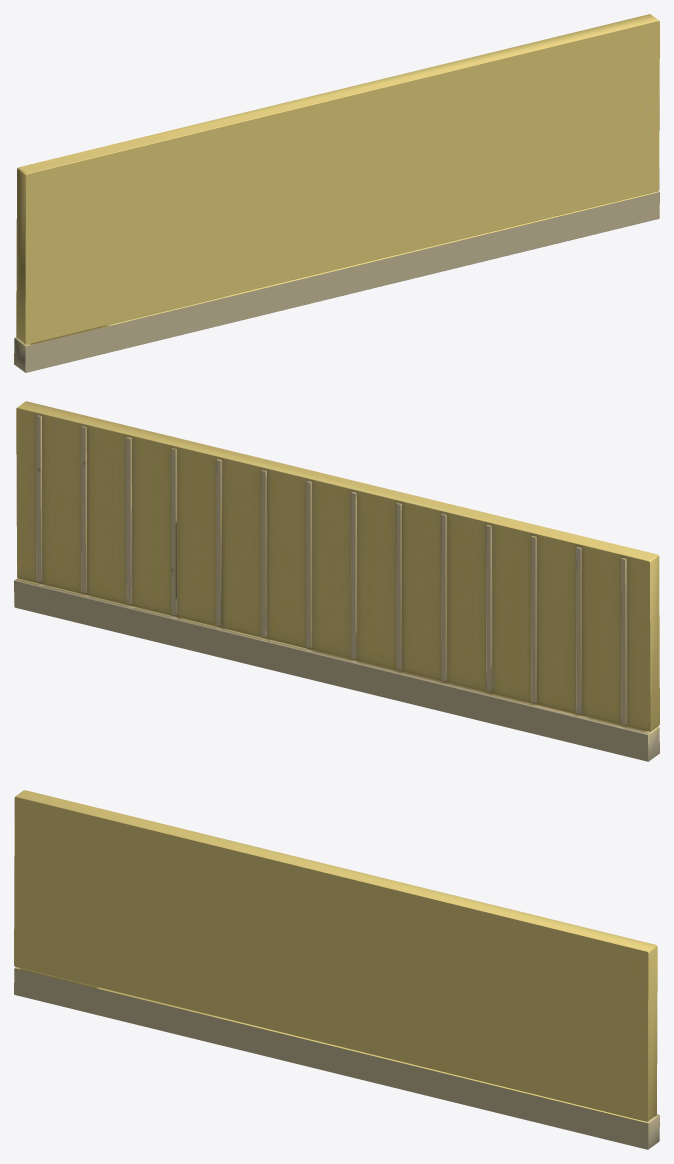
The model's file is LV_corridor_panel.glb.
3 renders of one model, top to bottom at view 1: azimuth 30°, elevation 25°; view 2: azimuth 150°, elevation 25°; view 3: azimuth 330°, elevation 25°, orthographic.
Parts seen in each view (by area): view 1: LV_corridor_panel; view 2: LV_corridor_panel; view 3: LV_corridor_panel.
Part boxes in pixels (x1=…): LV_corridor_panel: x1=14, y1=14, x2=659, y2=372; LV_corridor_panel: x1=14, y1=401, x2=659, y2=761; LV_corridor_panel: x1=14, y1=790, x2=659, y2=1149.
Size of the model in its own units: 2.4 by 0.72 by 0.075.
1 material, 1 textured.
